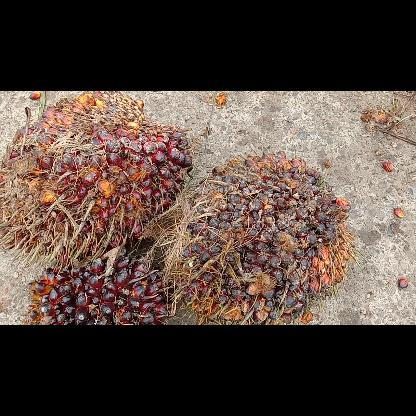Kurang masak: (176, 150, 356, 324), (26, 250, 170, 324)
TBS masak: (0, 91, 193, 264)
